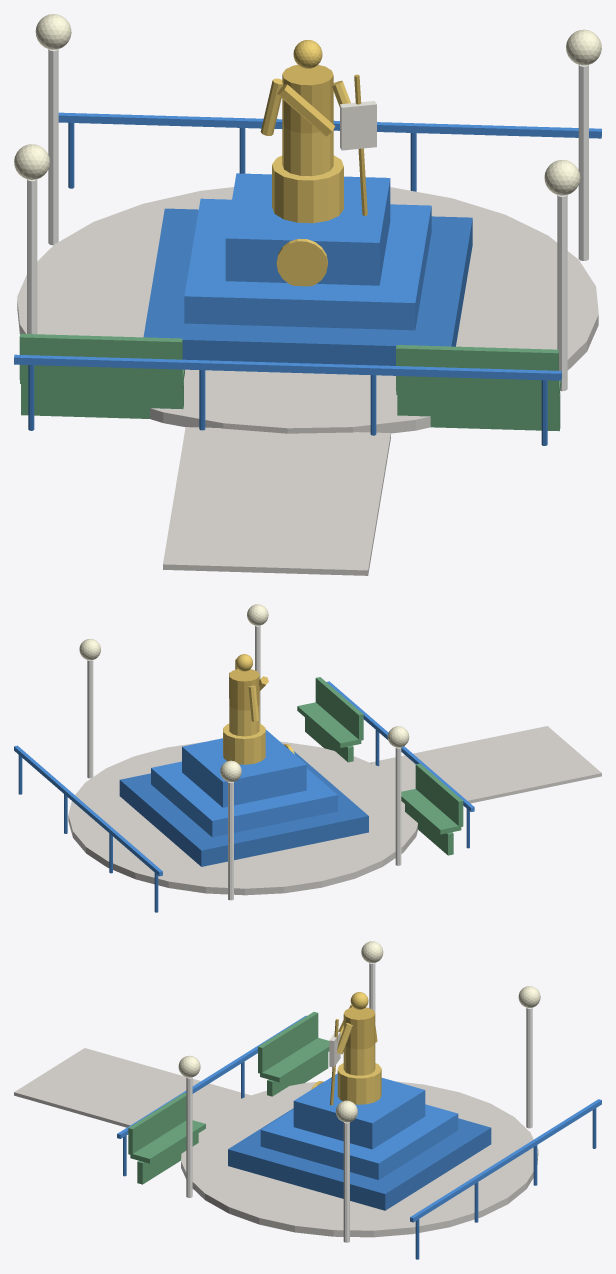
File: golden_statue_garden.glb
The picture shows the model from 3 angles, top to bottom: view 1: azimuth 30°, elevation 25°; view 2: azimuth 150°, elevation 25°; view 3: azimuth 270°, elevation 25°; orthographic projection. The views are drawn at different scales.
Parts seen in each view (by area): view 1: Golden_statue_garden__0, Golden_statue_garden__38, Golden_statue_garden__1, Golden_statue_garden__2, Golden_statue_garden__3, Golden_statue_garden__24, Golden_statue_garden__27, Golden_statue_garden__28, Golden_statue_garden__26, Golden_statue_garden__23, Golden_statue_garden__33, Golden_statue_garden__4 (+15 smaller); view 2: Golden_statue_garden__0, Golden_statue_garden__38, Golden_statue_garden__1, Golden_statue_garden__2, Golden_statue_garden__3, Golden_statue_garden__27, Golden_statue_garden__24, Golden_statue_garden__4, Golden_statue_garden__33, Golden_statue_garden__25, Golden_statue_garden__22, Golden_statue_garden__6 (+7 smaller); view 3: Golden_statue_garden__0, Golden_statue_garden__38, Golden_statue_garden__1, Golden_statue_garden__2, Golden_statue_garden__3, Golden_statue_garden__24, Golden_statue_garden__27, Golden_statue_garden__33, Golden_statue_garden__4, Golden_statue_garden__22, Golden_statue_garden__25, Golden_statue_garden__6 (+7 smaller).
Part boxes in pixels (x1=…): Golden_statue_garden__0: x1=17, y1=187, x2=598, y2=433; Golden_statue_garden__38: x1=163, y1=427, x2=390, y2=575; Golden_statue_garden__1: x1=143, y1=208, x2=472, y2=365; Golden_statue_garden__2: x1=184, y1=198, x2=431, y2=330; Golden_statue_garden__3: x1=225, y1=173, x2=390, y2=285; Golden_statue_garden__24: x1=19, y1=333, x2=182, y2=384; Golden_statue_garden__27: x1=396, y1=345, x2=558, y2=395; Golden_statue_garden__28: x1=14, y1=354, x2=561, y2=380; Golden_statue_garden__26: x1=397, y1=392, x2=560, y2=431; Golden_statue_garden__23: x1=21, y1=381, x2=183, y2=418; Golden_statue_garden__33: x1=58, y1=112, x2=601, y2=138; Golden_statue_garden__4: x1=272, y1=155, x2=343, y2=223; Golden_statue_garden__0: x1=68, y1=741, x2=417, y2=895; Golden_statue_garden__38: x1=370, y1=726, x2=601, y2=803; Golden_statue_garden__1: x1=119, y1=751, x2=368, y2=866; Golden_statue_garden__2: x1=151, y1=761, x2=337, y2=837; Golden_statue_garden__3: x1=182, y1=729, x2=306, y2=807; Golden_statue_garden__27: x1=315, y1=677, x2=363, y2=740; Golden_statue_garden__24: x1=415, y1=763, x2=463, y2=826; Golden_statue_garden__4: x1=223, y1=723, x2=265, y2=764; Golden_statue_garden__33: x1=14, y1=745, x2=162, y2=876; Golden_statue_garden__25: x1=297, y1=702, x2=361, y2=747; Golden_statue_garden__22: x1=401, y1=789, x2=461, y2=834; Golden_statue_garden__6: x1=229, y1=669, x2=259, y2=710; Golden_statue_garden__0: x1=181, y1=1081, x2=538, y2=1237; Golden_statue_garden__38: x1=14, y1=1048, x2=250, y2=1127; Golden_statue_garden__1: x1=228, y1=1108, x2=491, y2=1210; Golden_statue_garden__2: x1=260, y1=1104, x2=458, y2=1179; Golden_statue_garden__3: x1=293, y1=1073, x2=425, y2=1149; Golden_statue_garden__24: x1=258, y1=1012, x2=318, y2=1073; Golden_statue_garden__27: x1=128, y1=1093, x2=186, y2=1155; Golden_statue_garden__33: x1=410, y1=1099, x2=601, y2=1222; Golden_statue_garden__4: x1=337, y1=1063, x2=381, y2=1104; Golden_statue_garden__22: x1=260, y1=1038, x2=329, y2=1082; Golden_statue_garden__25: x1=130, y1=1120, x2=205, y2=1163; Golden_statue_garden__6: x1=343, y1=1007, x2=375, y2=1049.
Bounding box in the file's own units: 9.51 × 3.54 × 11.16.
